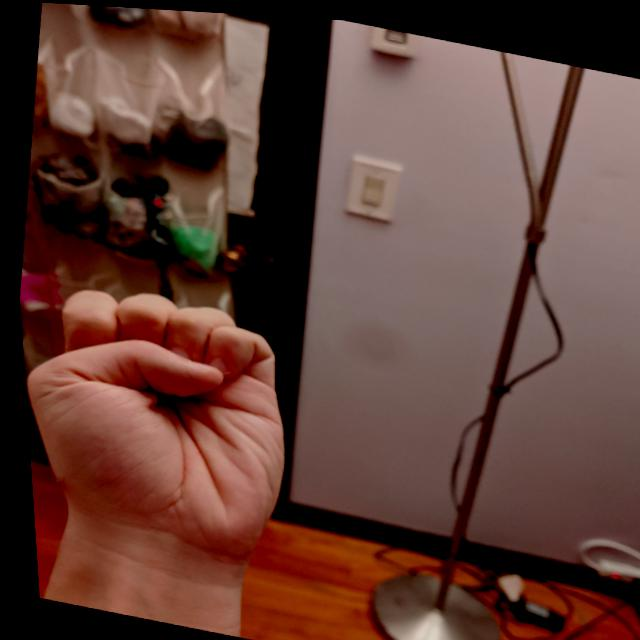E: (14, 262, 315, 584)
